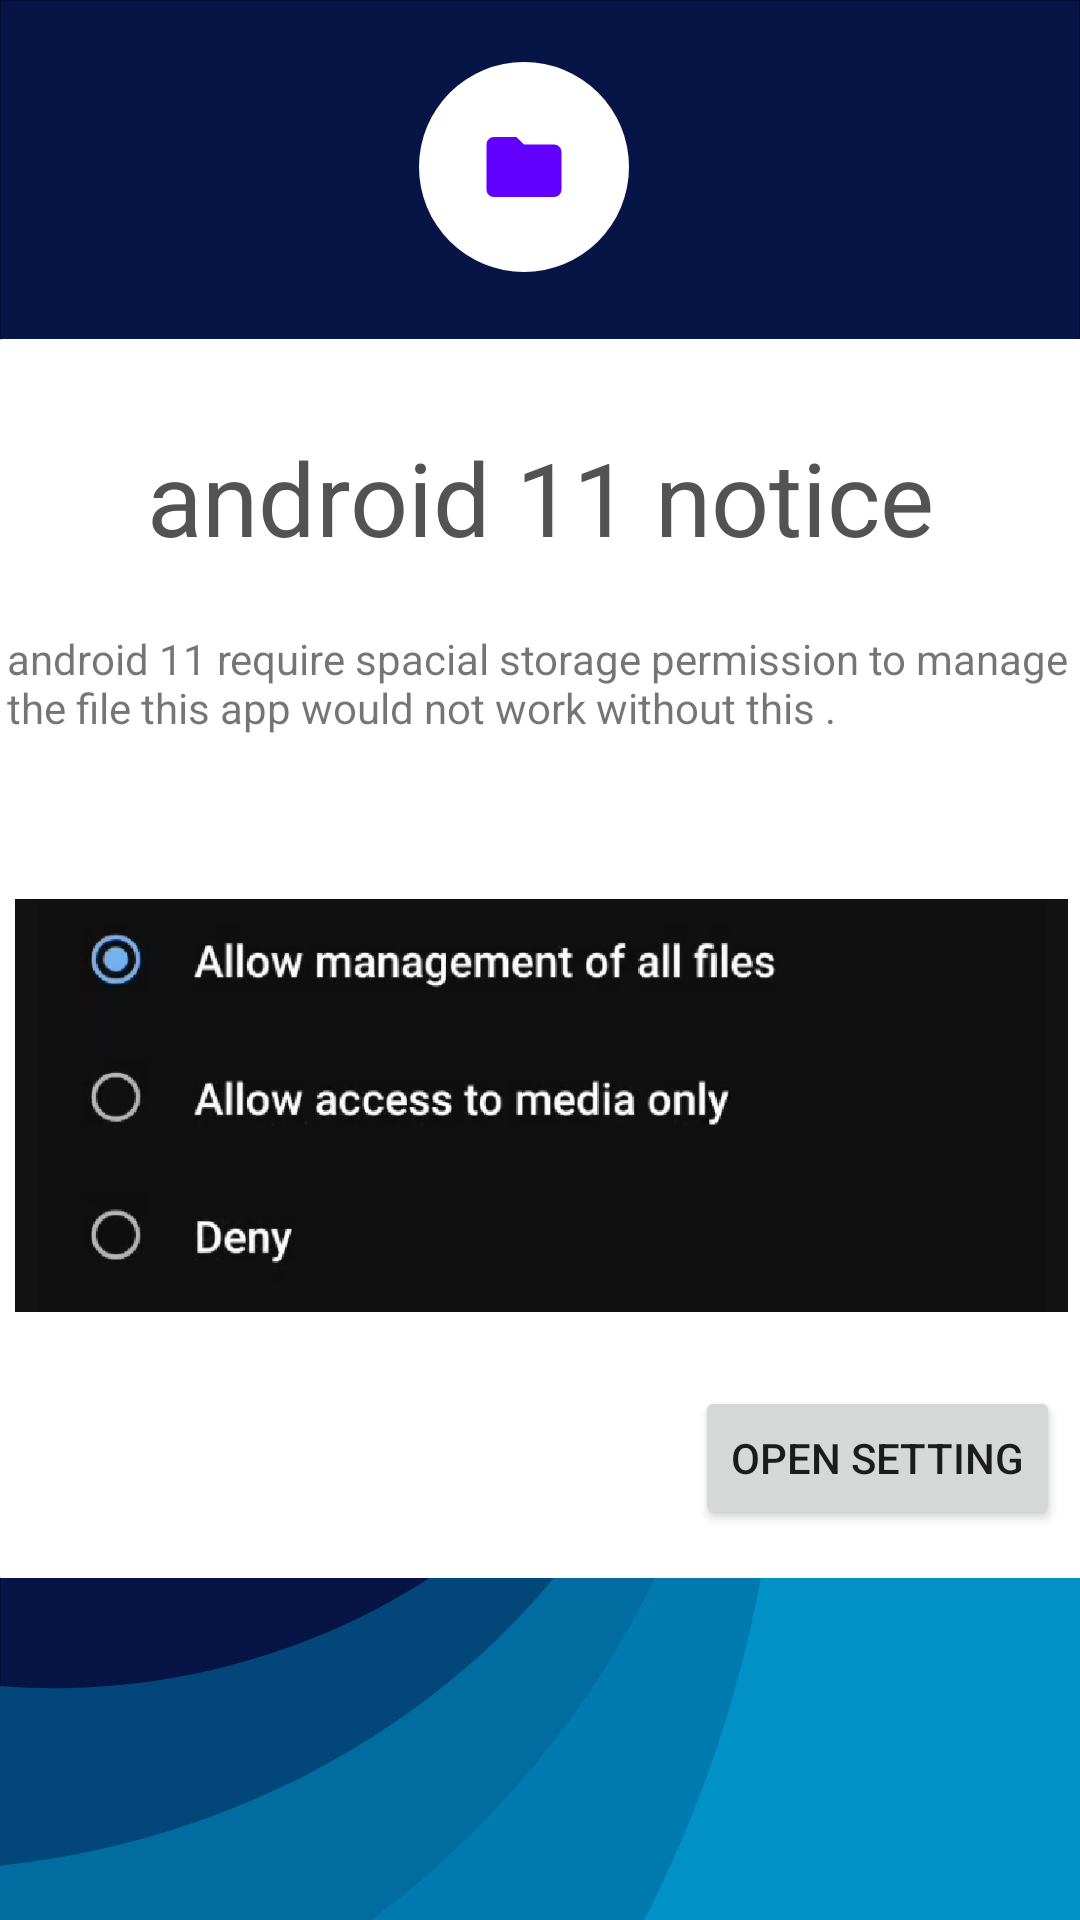

Icons on this 1080px×1920px Android screen, each with its box as [x1, y1, x2, y2]:
folder: [419, 62, 629, 272]
